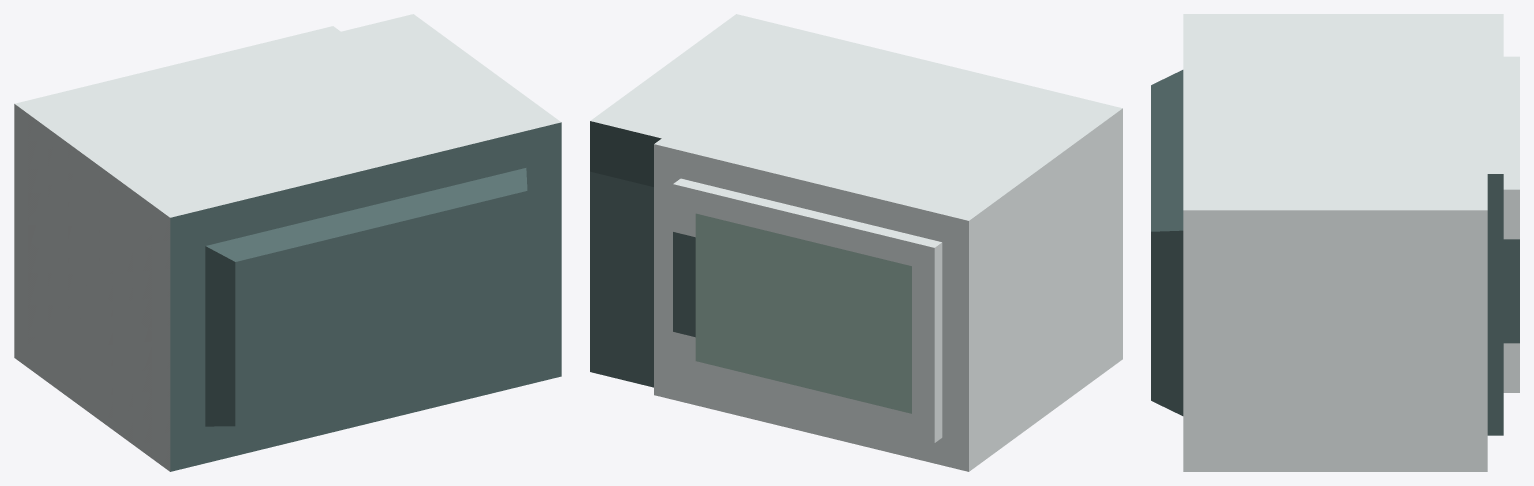
Rendered from kitchenMicrowave.dae.
3 renders of one model, left to right at view 1: azimuth 30°, elevation 25°; view 2: azimuth 150°, elevation 25°; view 3: azimuth 270°, elevation 25°, orthographic. The views are drawn at different scales.
Parts seen in each view (by area): view 1: kitchenMicrowave; view 2: kitchenMicrowave, Group; view 3: kitchenMicrowave, Group.
Boxes of the visible parts, x1=… form: kitchenMicrowave: x1=14, y1=14, x2=561, y2=471; kitchenMicrowave: x1=590, y1=14, x2=1122, y2=471; Group: x1=673, y1=178, x2=942, y2=442; kitchenMicrowave: x1=1151, y1=14, x2=1503, y2=471; Group: x1=1503, y1=56, x2=1519, y2=392.
Bounding box in the file's own units: 0.29 × 0.18 × 0.23.
